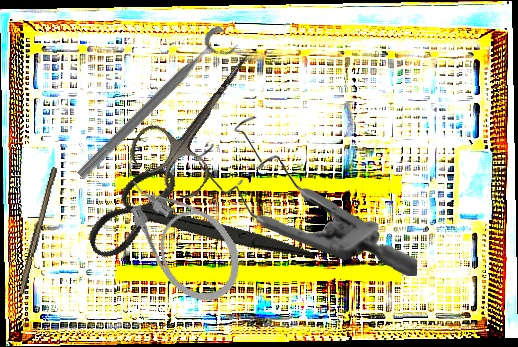Cannula: (111, 153, 256, 316)
Fixation Ring: (72, 23, 241, 192)
Iris Scissors: (73, 126, 314, 330), (123, 32, 282, 204)
Scalpel Handle: (16, 165, 58, 297)
Speculum: (196, 116, 420, 276)
